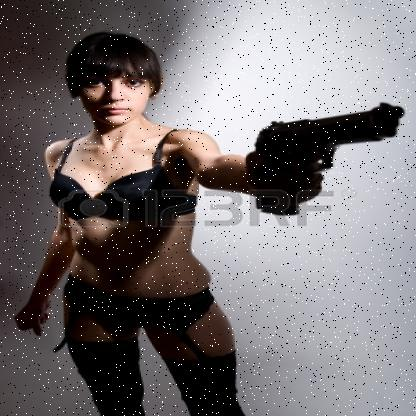pistol: (249, 102, 405, 217)
